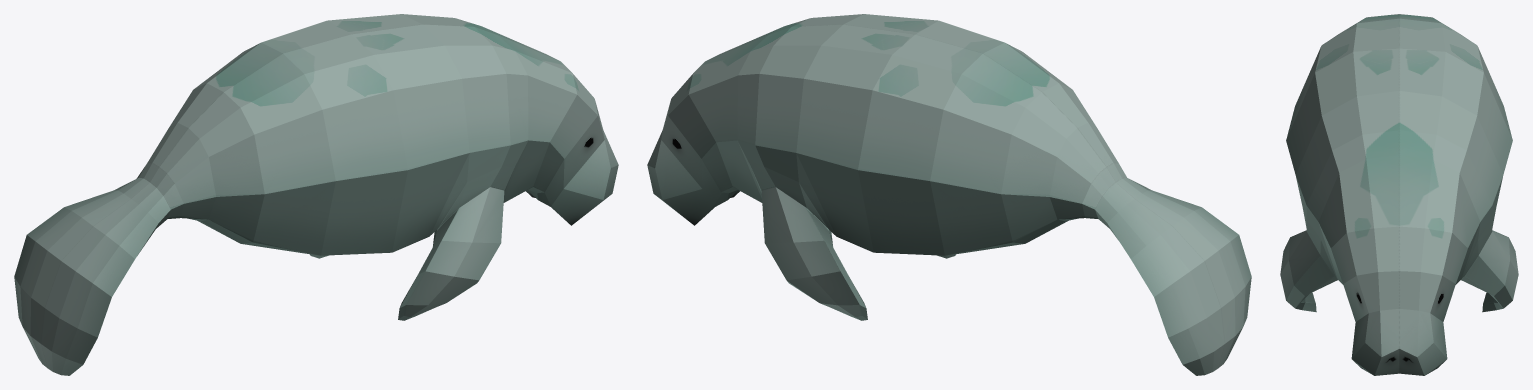
The picture shows the model from 3 angles, left to right: view 1: azimuth 30°, elevation 25°; view 2: azimuth 150°, elevation 25°; view 3: azimuth 270°, elevation 25°; orthographic projection.
Parts seen in each view (by area): view 1: Manatees_mesh; view 2: Manatees_mesh; view 3: Manatees_mesh.
Boxes of the visible parts, <box> form: Manatees_mesh: <box>14,14,618,375</box>; Manatees_mesh: <box>647,14,1251,375</box>; Manatees_mesh: <box>1280,14,1518,375</box>.
Size of the model in its own units: 10.18 by 4.45 by 3.75.
1 material, 1 textured.
